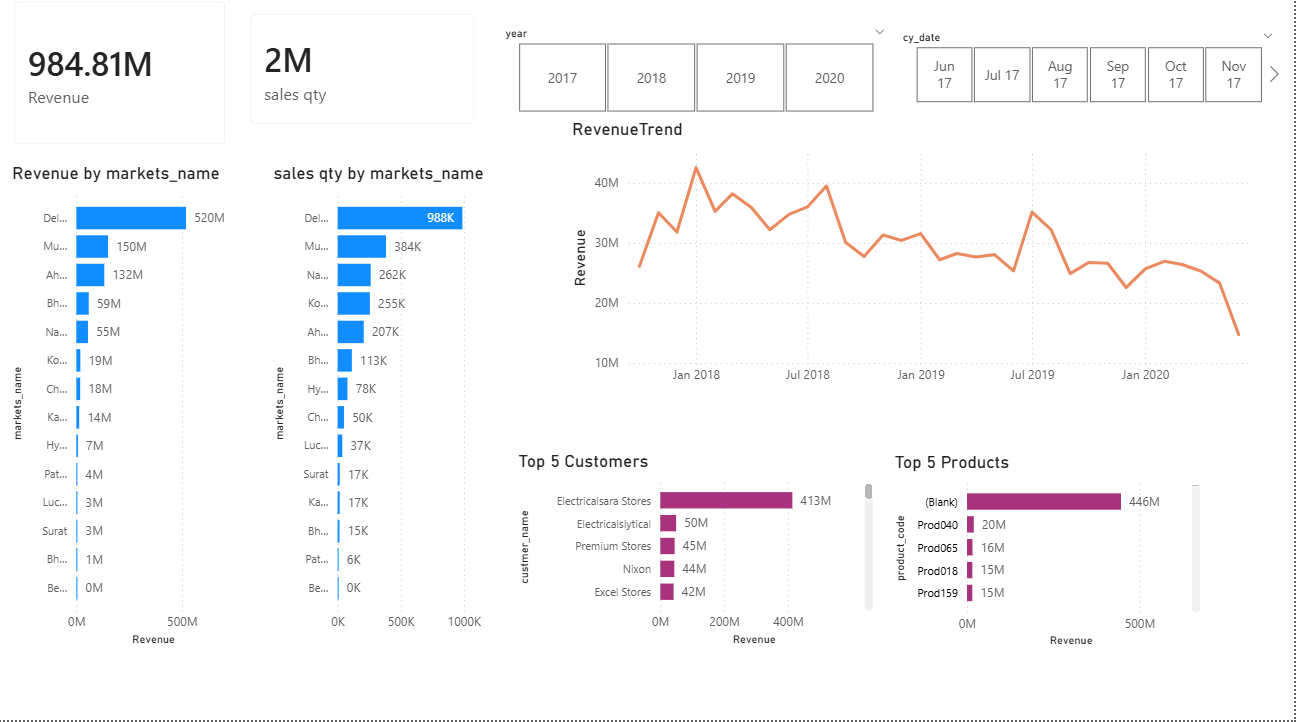

The page's visual inventory and layout, read from the dashboard file:
{"tool":"powerbi","page":{"name":"Page 1","canvas":[1280,720],"ordinal":0},"visuals":[{"type":"cardVisual","fields":{"Data":["BaseMeasure.Revenue"]},"box":[11,0,240.1,174.3],"z":0},{"type":"cardVisual","fields":{"Data":["BaseMeasure.sales qty"]},"box":[241.5,12.3,253.9,142.7],"z":1000},{"type":"barChart","fields":{"Y":["BaseMeasure.Revenue"],"Category":["sales markets.markets_name"]},"box":[20.6,174.3,240.1,477.5],"z":2000},{"type":"barChart","fields":{"Y":["BaseMeasure.sales qty"],"Category":["sales markets.markets_name"]},"box":[275.8,174.3,240.1,477.5],"z":3000},{"type":"slicer","fields":{"Values":["sales date.year"]},"box":[495.4,37,396.6,94.7],"z":4000},{"type":"slicer","fields":{"Values":["sales date.cy_date"]},"box":[884.1,40.4,387.6,81.9],"z":5000},{"type":"barChart","title":"Top 5 Customers","fields":{"Y":["BaseMeasure.Revenue"],"Category":["sales customers.custmer_name"]},"box":[516,455.6,356.8,196.2],"z":6000},{"type":"barChart","title":"Top 5 Products","fields":{"Y":["BaseMeasure.Revenue"],"Category":["sales products.product_code"]},"box":[883.7,456.9,308.7,196.2],"z":7000},{"type":"lineChart","title":"RevenueTrend","fields":{"Y":["BaseMeasure.Revenue"],"Category":["sales date.cy_date"]},"box":[568.1,131.7,686.1,282.7],"z":8000}]}

Visuals, with their boxes in screenshot pixels (x1, y1, x2, y2), scaled from the page's 1280x720 canvas onto the 1305x722 screenshot:
cardVisual - BaseMeasure.Revenue: l=11, t=0, r=256, b=175
cardVisual - BaseMeasure.sales qty: l=246, t=12, r=505, b=155
barChart - BaseMeasure.Revenue x sales markets.markets_name: l=21, t=175, r=266, b=654
barChart - BaseMeasure.sales qty x sales markets.markets_name: l=281, t=175, r=526, b=654
slicer - sales date.year: l=505, t=37, r=909, b=132
slicer - sales date.cy_date: l=901, t=41, r=1297, b=123
"Top 5 Customers" barChart: l=526, t=457, r=890, b=654
"Top 5 Products" barChart: l=901, t=458, r=1216, b=655
"RevenueTrend" lineChart: l=579, t=132, r=1279, b=416
